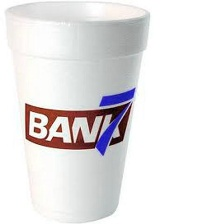paper_cup: (0, 0, 156, 224)
